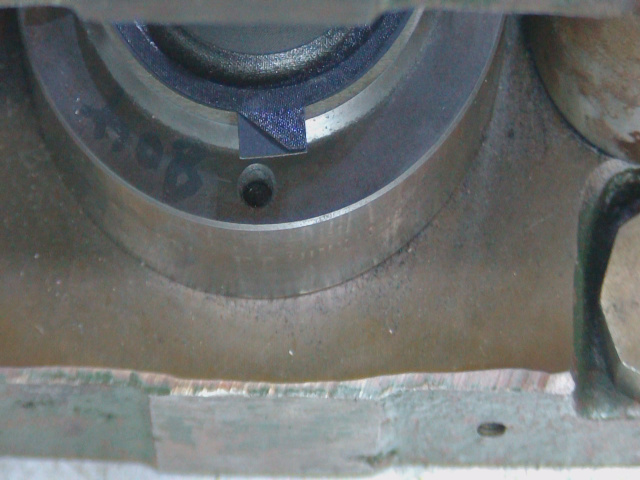HX3: (235, 108, 316, 169)
